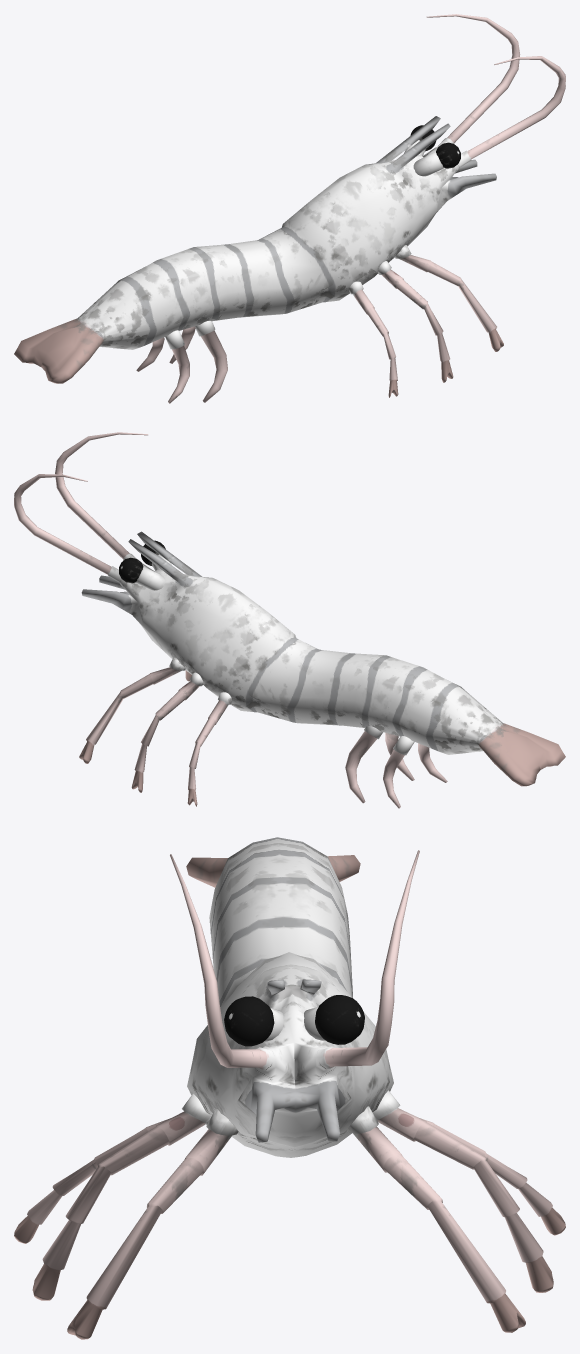
Rendered from WhiteShrimp00_LOD0.fbx.
3 renders of one model, top to bottom at view 1: azimuth 30°, elevation 25°; view 2: azimuth 150°, elevation 25°; view 3: azimuth 270°, elevation 25°, orthographic. The views are drawn at different scales.
Visible parts, largest first — view 1: WhiteShrimp00_LOD0; view 2: WhiteShrimp00_LOD0; view 3: WhiteShrimp00_LOD0.
Boxes of the visible parts, <box> form: WhiteShrimp00_LOD0: <box>14,14,565,403</box>; WhiteShrimp00_LOD0: <box>14,432,565,808</box>; WhiteShrimp00_LOD0: <box>14,837,565,1339</box>.
Size of the model in its own units: 0.726 by 0.3727 by 0.3501.
